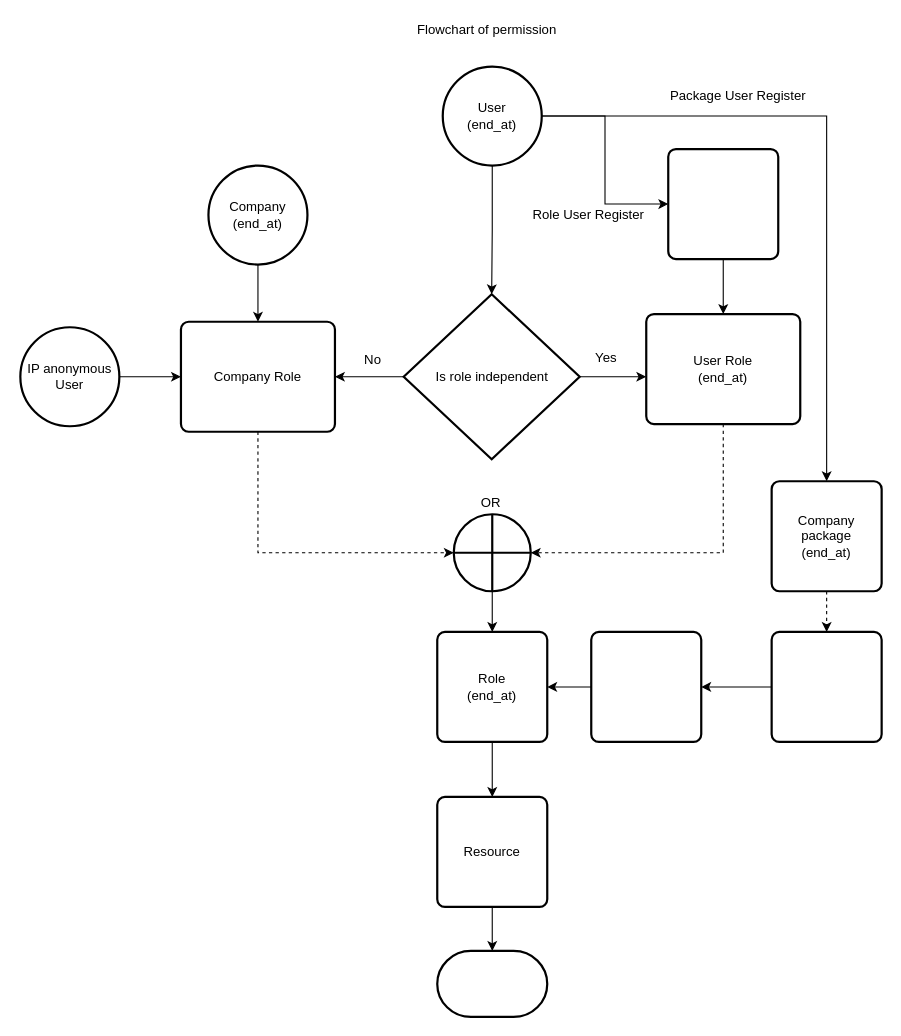
This 901x1036 diagram has some shape labels left out. The shapes that lost their labels are listed below. From the top down, each one's centre as x and y in pixels, then its label:
the point at 723,203: Company Register Role
the point at 646,686: Element
the point at 826,686: User package （end_at）
the point at 492,983: Permissions
